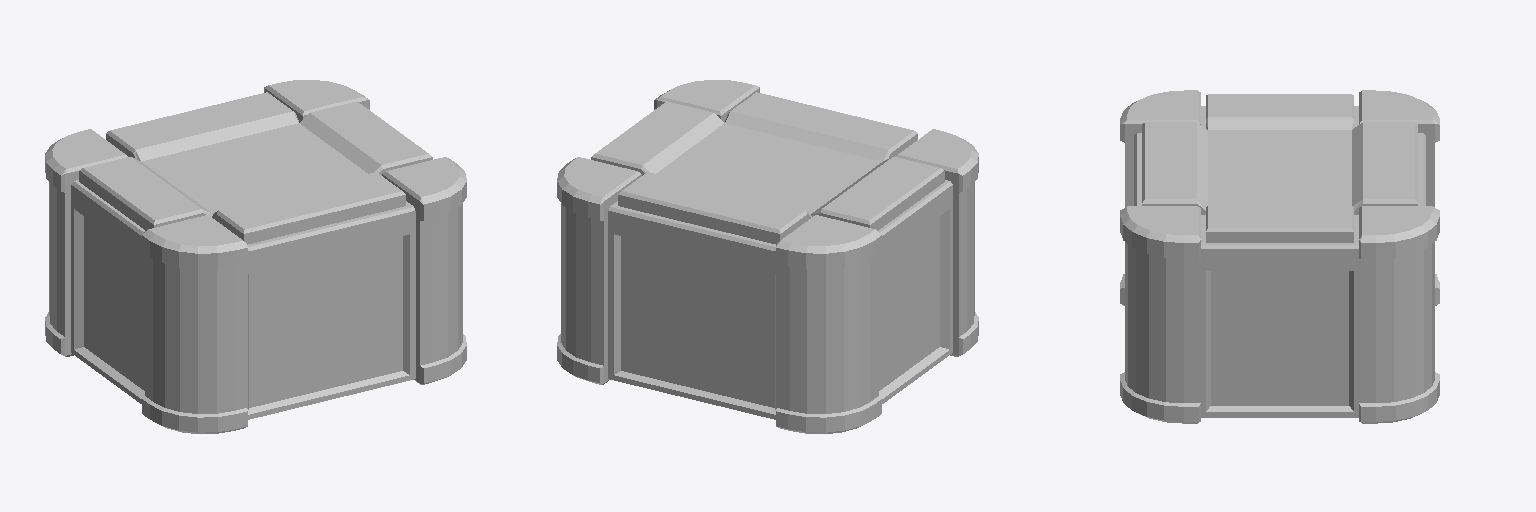
File: AmmoBoxMA75B.obj
3 views of the same model, side by side, from view 1: azimuth 30°, elevation 25°; view 2: azimuth 150°, elevation 25°; view 3: azimuth 270°, elevation 25° (orthographic).
Visible parts, largest first — view 1: Cube.041_Cube.054; view 2: Cube.041_Cube.054; view 3: Cube.041_Cube.054.
Boxes of the visible parts, box(x1,y1,x2,y2) form: Cube.041_Cube.054: box(45, 80, 466, 433); Cube.041_Cube.054: box(557, 80, 978, 433); Cube.041_Cube.054: box(1120, 90, 1439, 423).
Bounding box in the file's own units: 1.56 × 0.9153 × 1.39.